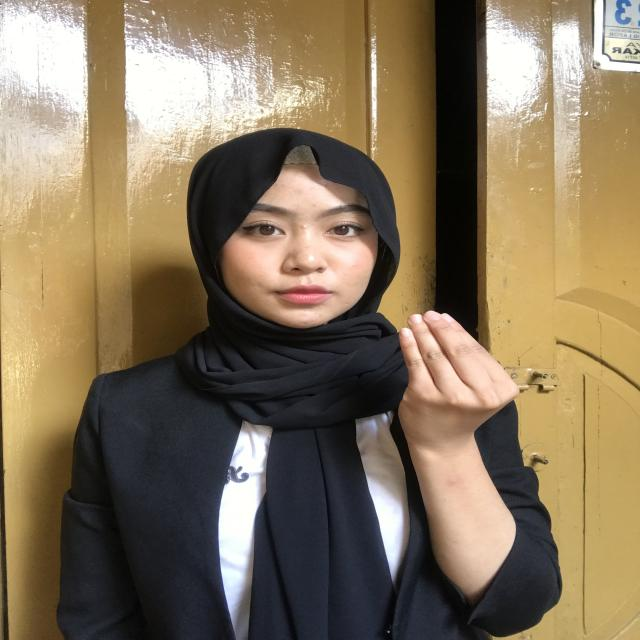kapan: (358, 294, 532, 491)
